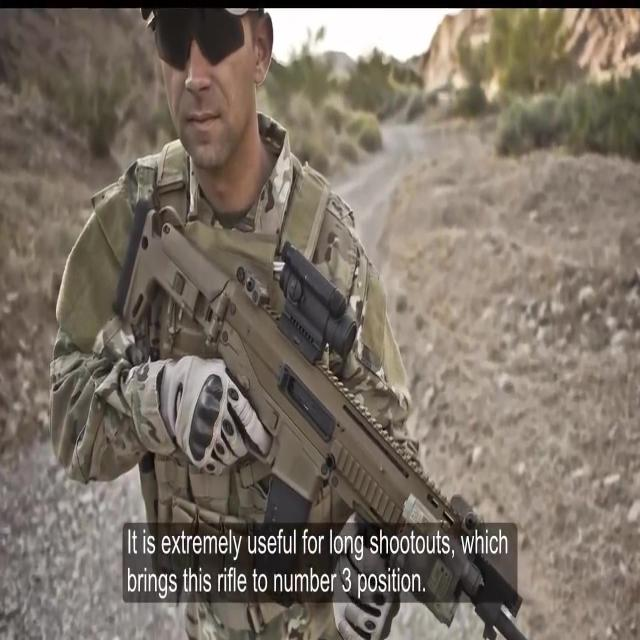Weapon: (105, 178, 534, 640)
